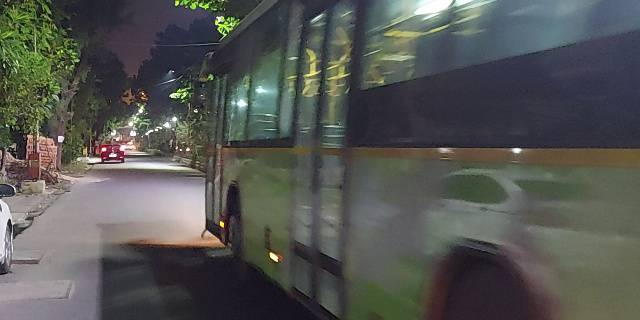Bus: (202, 1, 640, 319)
